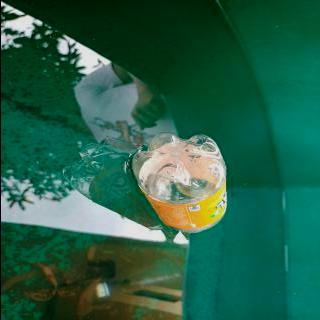bottle: (130, 131, 228, 234)
